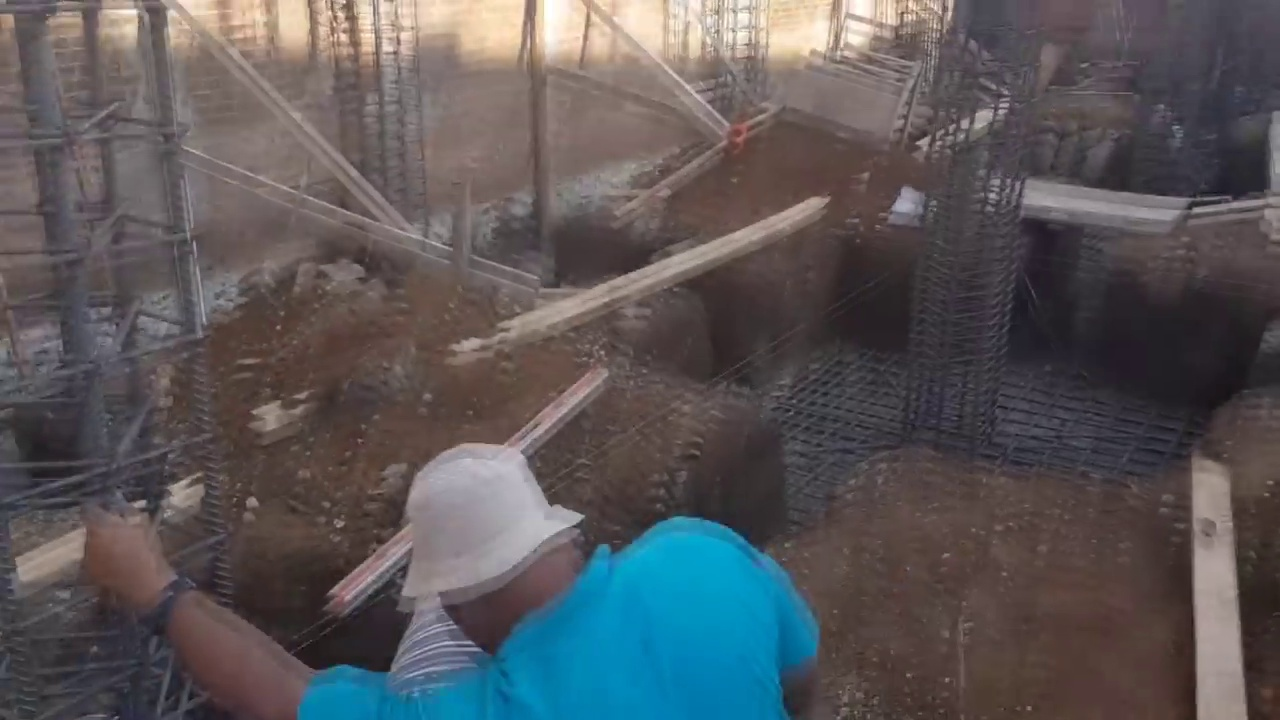helmet-off: (390, 454, 615, 633)
person: (75, 443, 819, 713)
